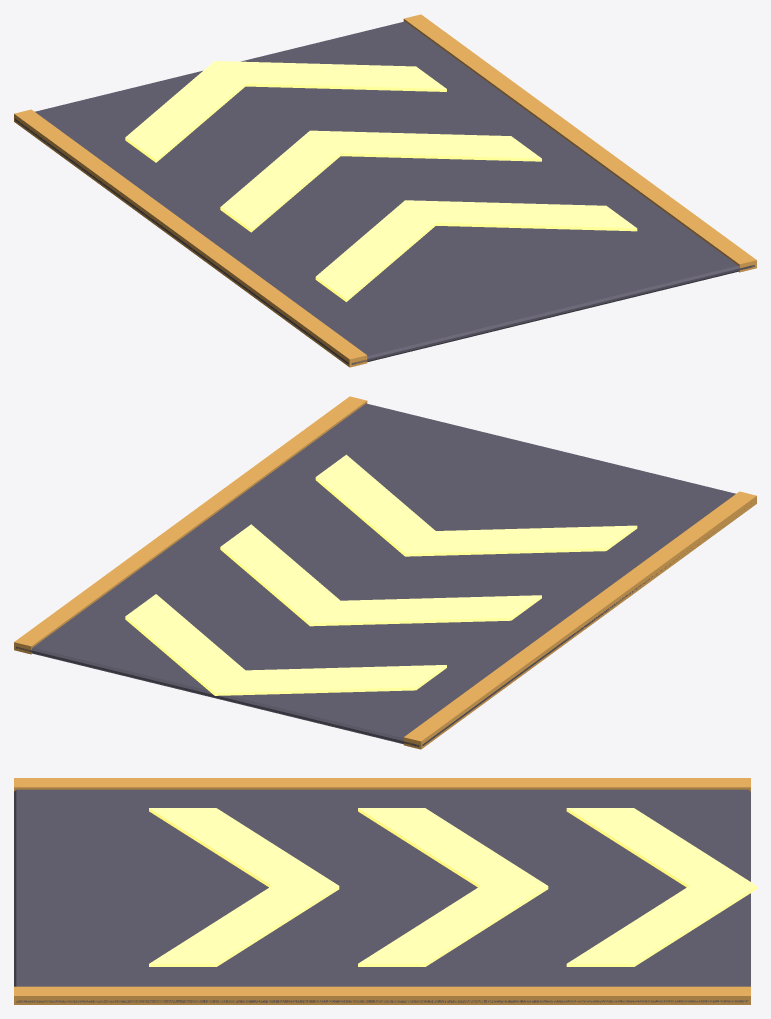
The model's file is boost_pad.glb.
The picture shows the model from 3 angles, top to bottom: view 1: azimuth 30°, elevation 25°; view 2: azimuth 150°, elevation 25°; view 3: azimuth 270°, elevation 25°; orthographic projection. The views are drawn at different scales.
Parts seen in each view (by area): view 1: boost_pad, boost_chevrons; view 2: boost_pad, boost_chevrons; view 3: boost_pad, boost_chevrons.
Boxes of the visible parts, x1,y1,x2,y2 form: boost_pad: (14,14,756,367); boost_chevrons: (125,61,637,301); boost_pad: (14,396,756,749); boost_chevrons: (125,454,637,695); boost_pad: (14,778,750,1004); boost_chevrons: (149,808,756,966).
Size of the model in its own units: 4.2 by 0.09 by 6.05.
